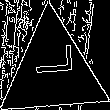L_W: (29, 53, 76, 88)
